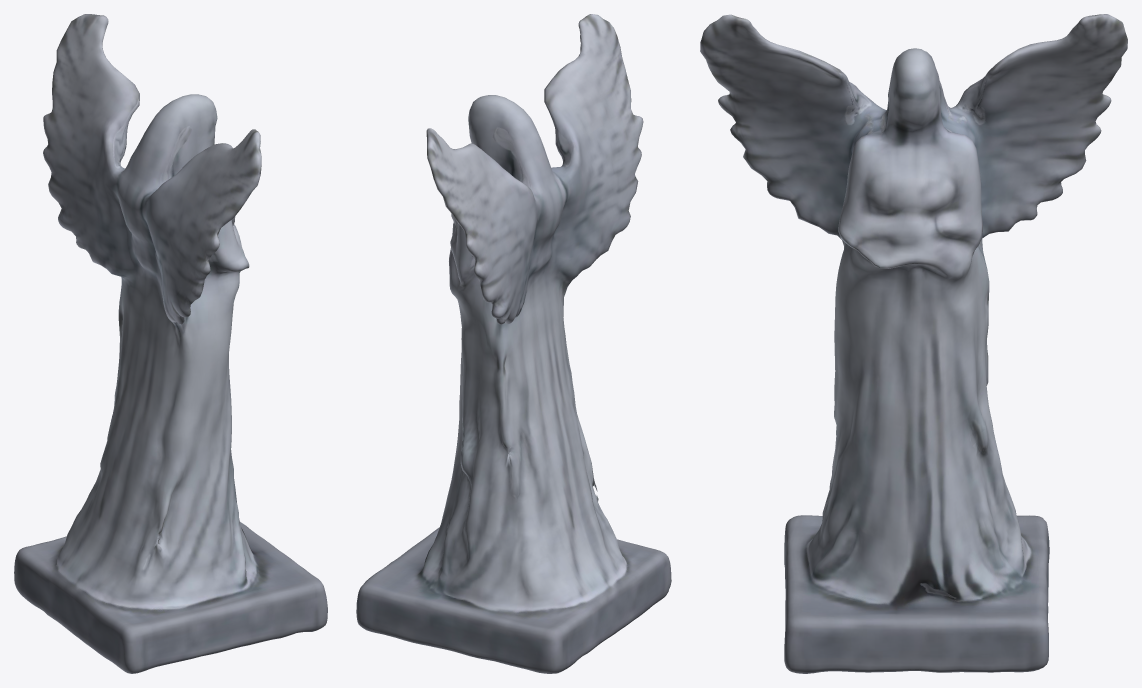
File: 113a028e0584_f6f860279d04_big_angel_wings_sta.glb
The picture shows the model from 3 angles, left to right: view 1: azimuth 30°, elevation 25°; view 2: azimuth 150°, elevation 25°; view 3: azimuth 270°, elevation 25°; orthographic projection. The views are drawn at different scales.
Visible parts, largest first — view 1: mesh; view 2: mesh; view 3: mesh.
Boxes of the visible parts, x1,y1,x2,y2 form: mesh: (14, 14, 327, 673); mesh: (356, 14, 671, 673); mesh: (700, 14, 1127, 673).
Bounding box in the file's own units: 0.3917 × 0.9971 × 0.6328.
Materials: 1 (1 with a texture image).
